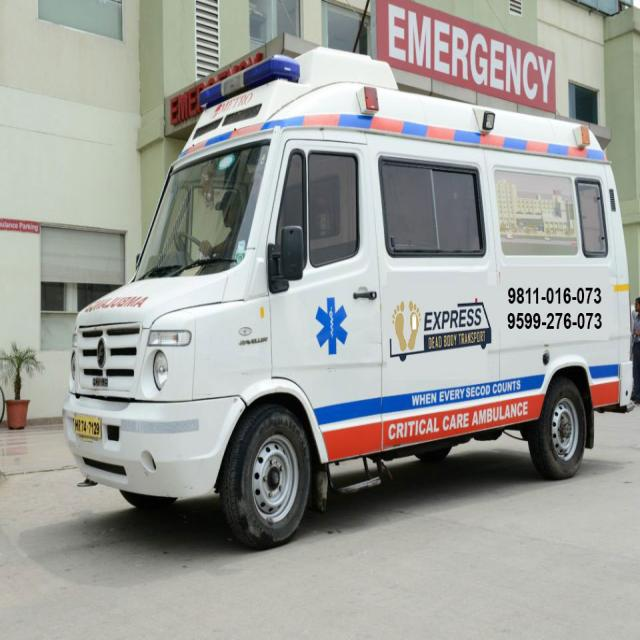emergency: (62, 49, 631, 547)
